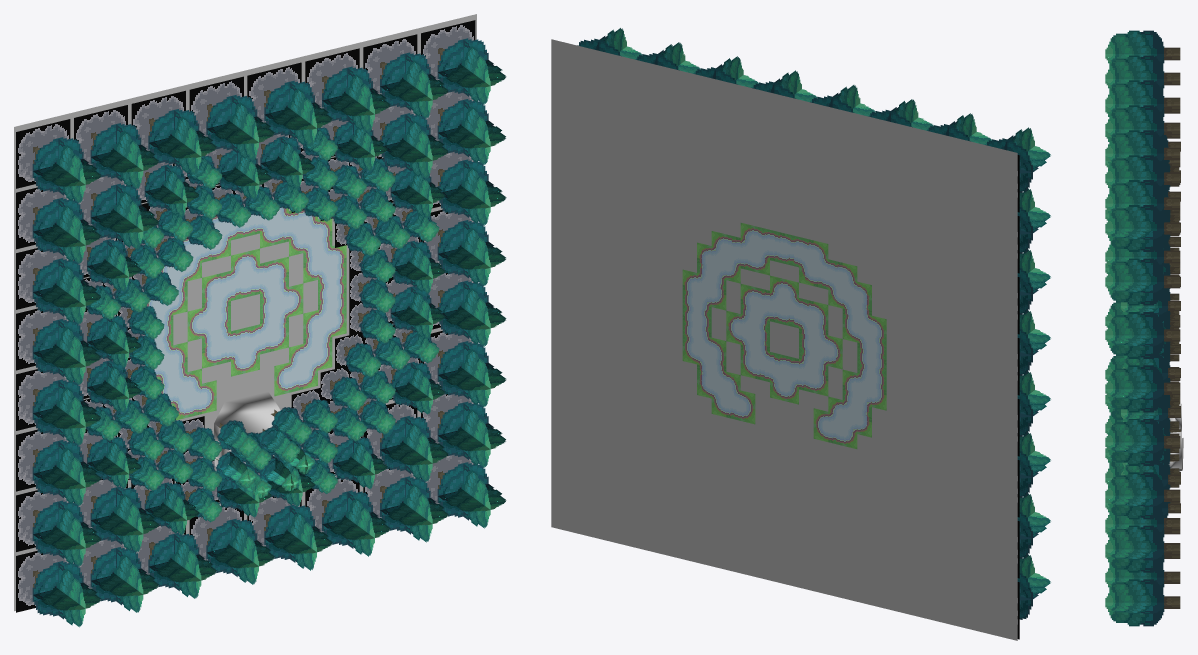
The model's file is Barrier-Reef_01_21.obj.
3 views of the same model, side by side, from view 1: azimuth 30°, elevation 25°; view 2: azimuth 150°, elevation 25°; view 3: azimuth 270°, elevation 25° (orthographic). The views are drawn at different scales.
Visible parts, largest first — view 1: map; view 2: map; view 3: map.
Boxes of the visible parts, x1,y1,x2,y2 form: map: [14, 14, 506, 627]; map: [551, 28, 1050, 640]; map: [1105, 30, 1183, 626].
Size of the model in its own units: 32 by 32 by 5.95.
